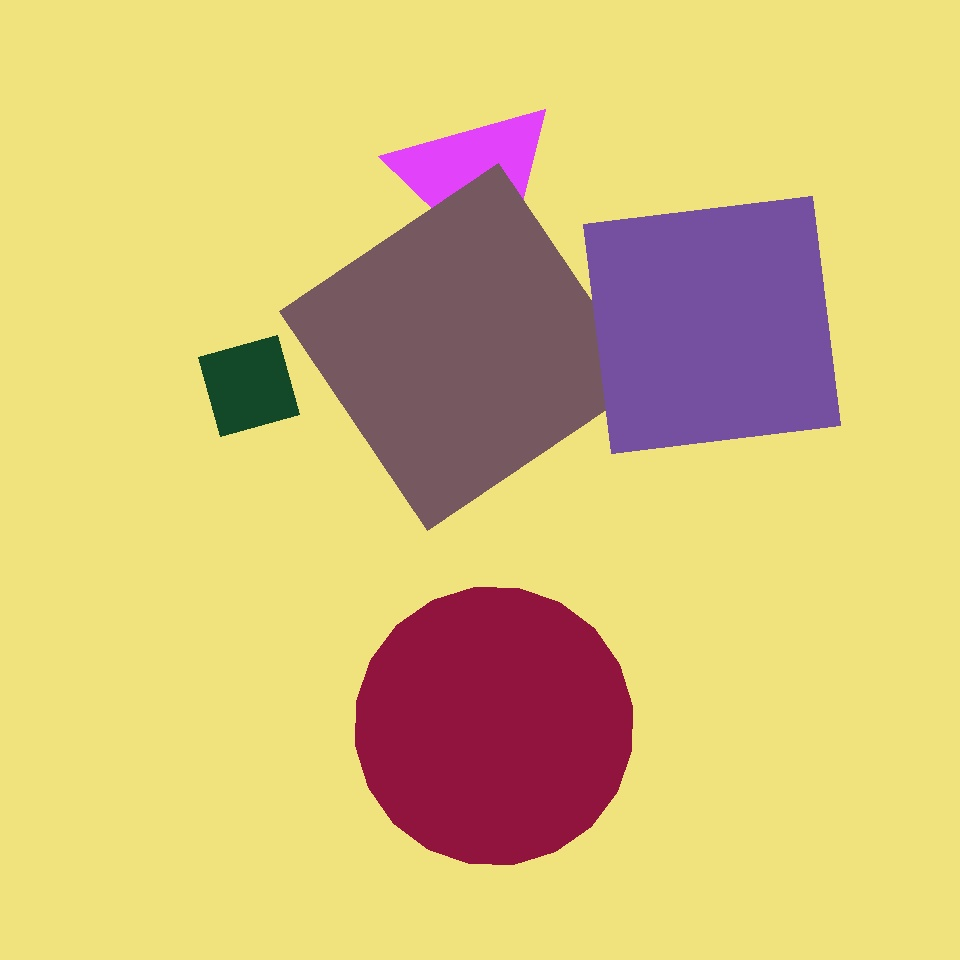circle: (392, 97, 560, 265)
square: (280, 164, 646, 530), (199, 508, 531, 840), (584, 197, 840, 454), (198, 336, 300, 436)
triangle: (355, 588, 632, 864), (460, 437, 650, 627)
